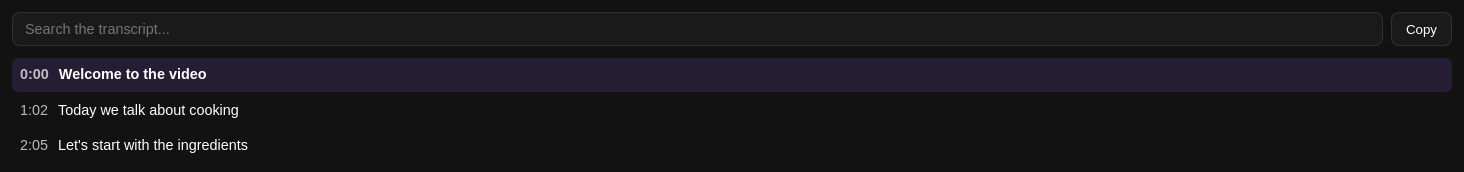
Test: TranscriptPanel › says so when the search matches nothing
Type "spaceships" into the search field with placeholder "Search the transcript...".
click(697, 29); type("spaceships")  # box x1=12 y1=12 x2=1383 y2=46
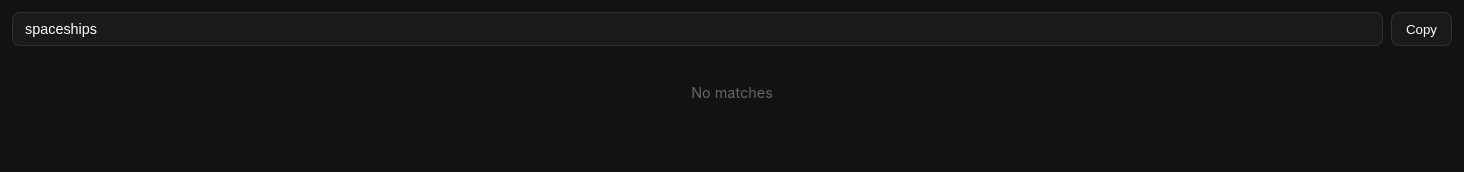
expect no buttons with class "transcript-line" are shown: met
expect the text "No matches" is shown: met, box x1=691 y1=84 x2=773 y2=101
